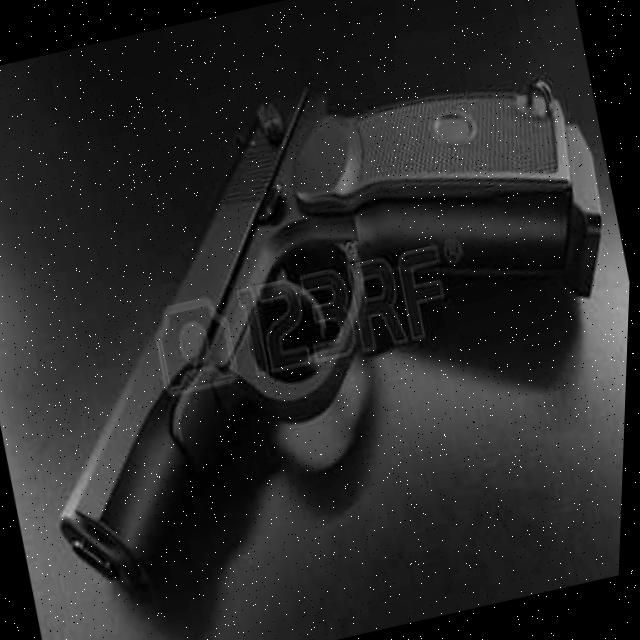pistol: (0, 17, 640, 611)
